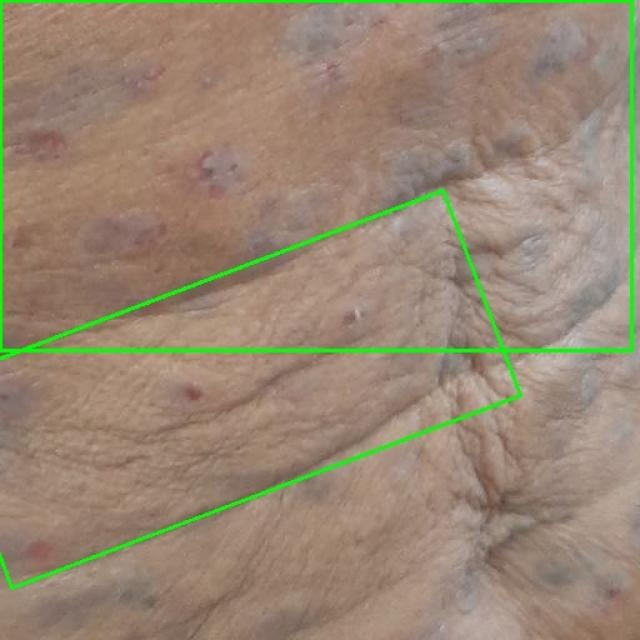Contact Dermatitis: (0, 190, 530, 612), (0, 0, 631, 350)
